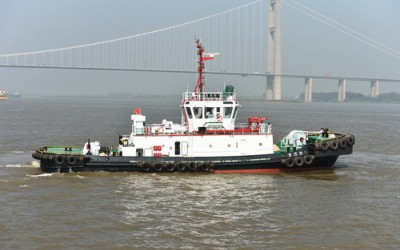otherboat: (33, 37, 356, 174)
